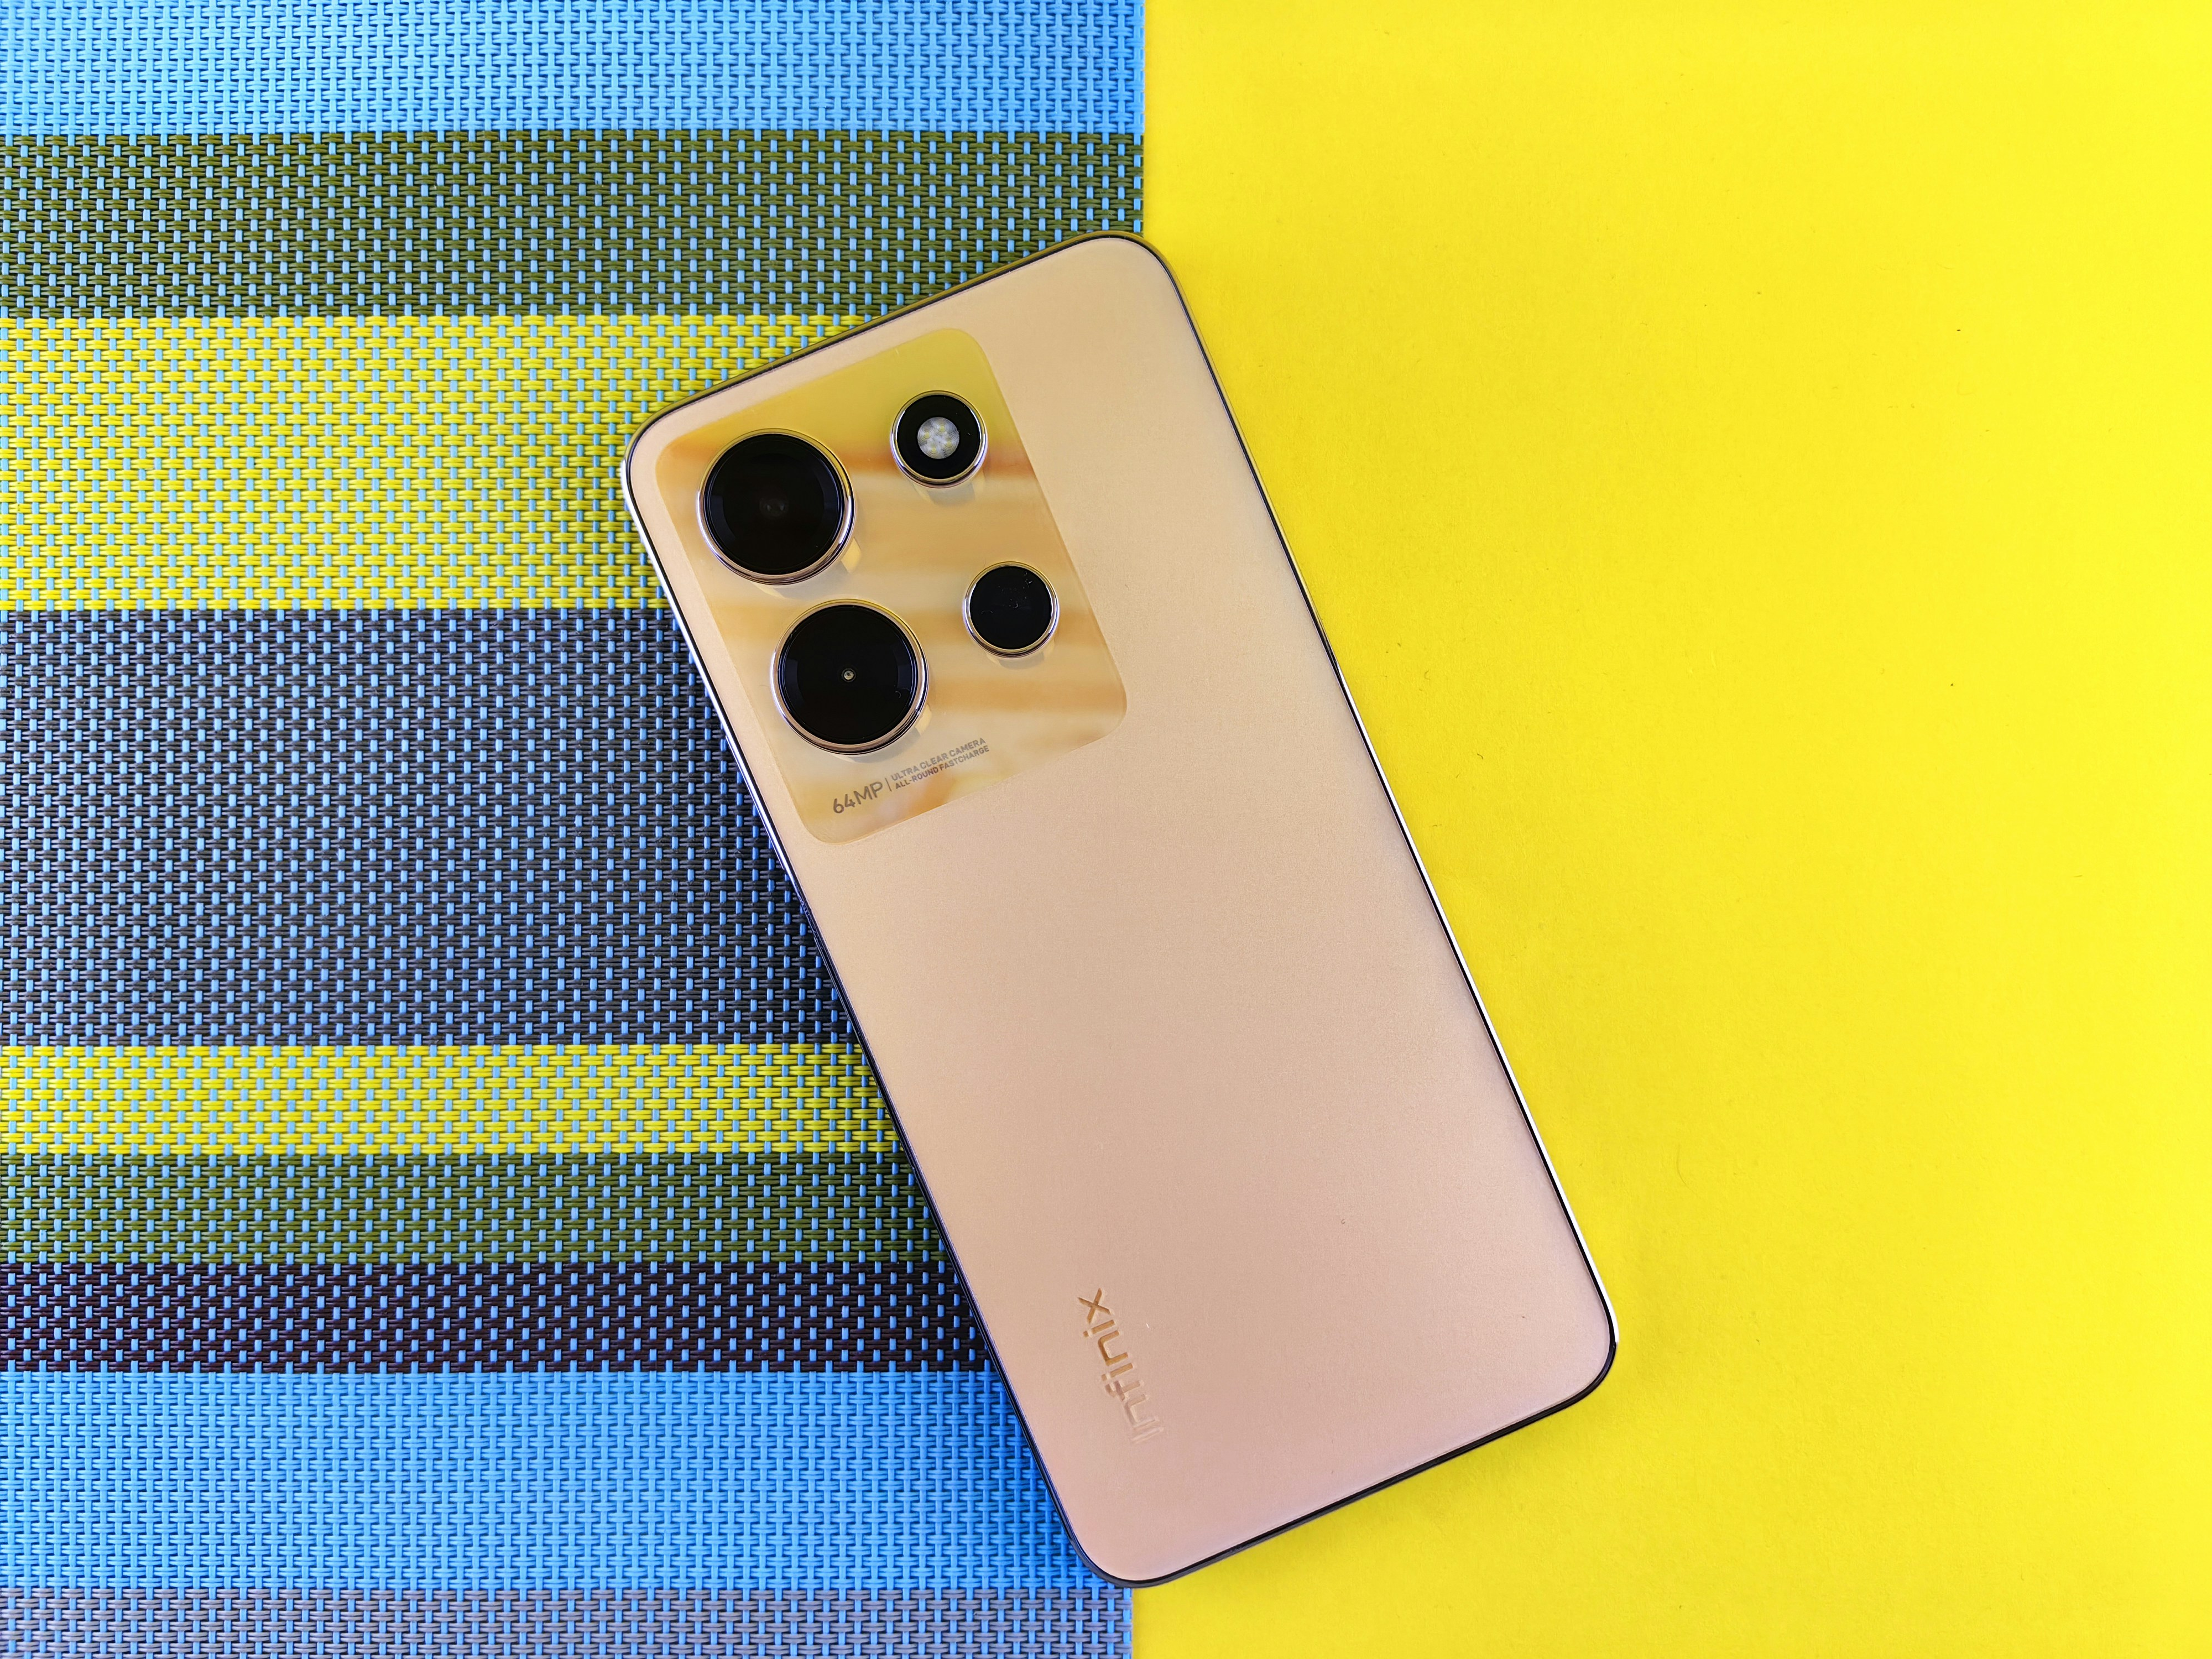p6: (601, 225, 1641, 1591)
